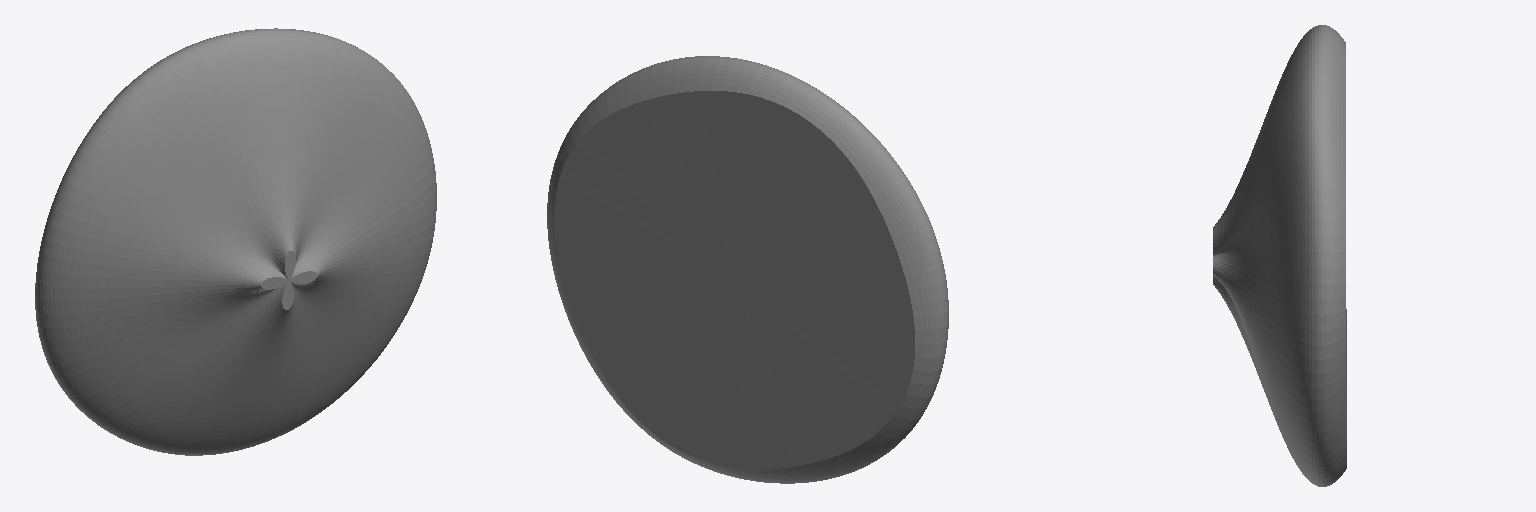
File: jellyfish.obj
3 views of the same model, side by side, from view 1: azimuth 30°, elevation 25°; view 2: azimuth 150°, elevation 25°; view 3: azimuth 270°, elevation 25° (orthographic).
Visible parts, largest first — view 1: Jellyfish; view 2: Jellyfish; view 3: Jellyfish.
Boxes of the visible parts, x1=… form: Jellyfish: x1=35, y1=28, x2=436, y2=455; Jellyfish: x1=547, y1=56, x2=948, y2=483; Jellyfish: x1=1213, y1=25, x2=1346, y2=486.
Size of the model in its own units: 4.74 by 4.74 by 1.38.